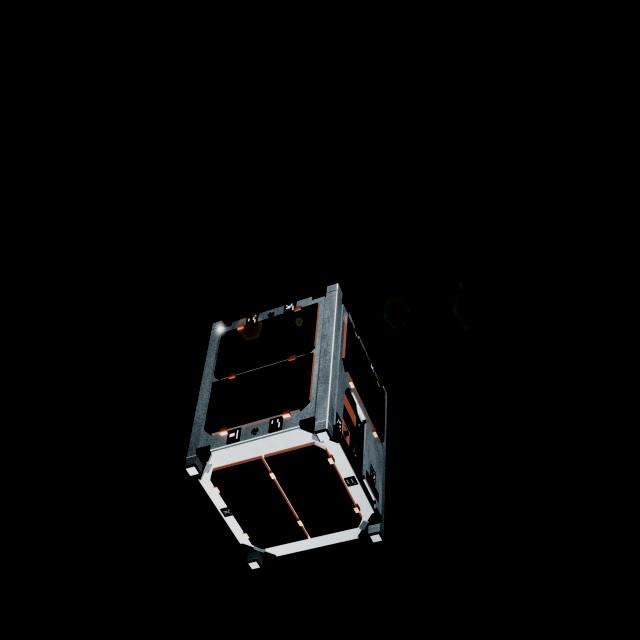medium_debris: (175, 281, 408, 575)
